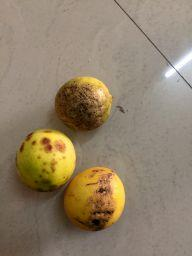lemon: (61, 163, 128, 232), (15, 123, 77, 193), (56, 74, 113, 133)
